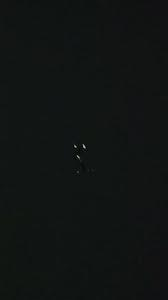Plane: (60, 128, 102, 190)
